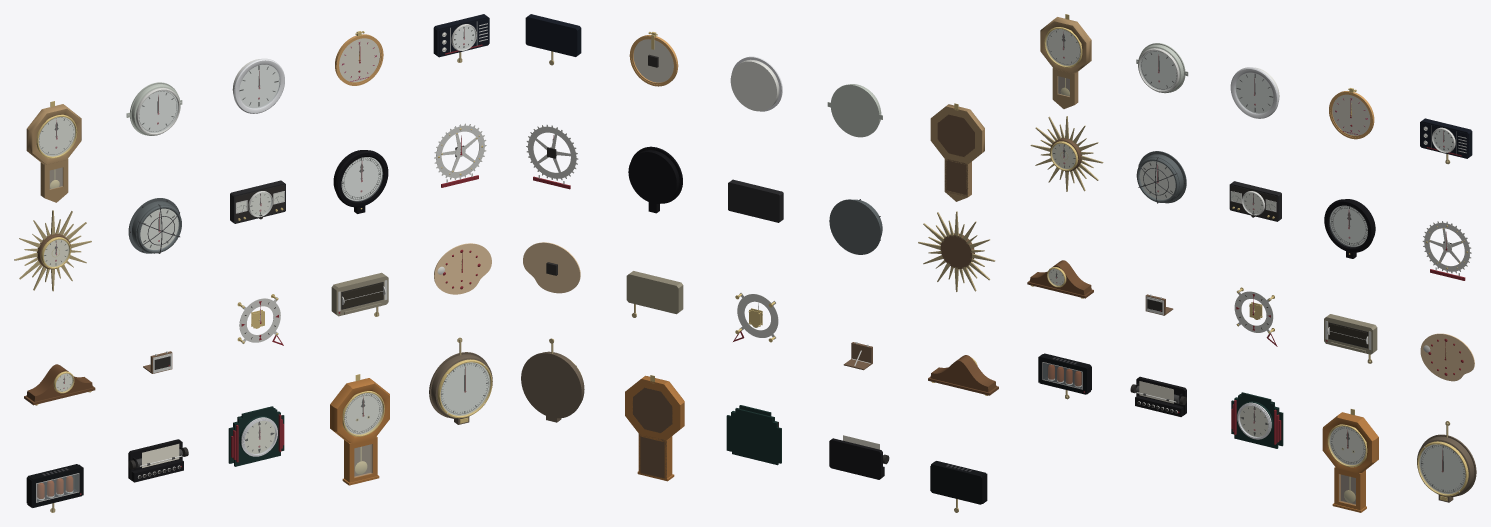
File: witness_clocks.glb
3 renders of one model, left to right at view 1: azimuth 30°, elevation 25°; view 2: azimuth 150°, elevation 25°; view 3: azimuth 330°, elevation 25°, orthographic. The views are drawn at different scales.
Visible parts, largest first — view 1: WC_drop_octagon__Case_ON_oak_quartered, WC_palette__Case_ON_plywood, WC_schoolhouse__Case_ON_oak_quartered, WC_vantry_master__Glass_ON_glassish, WC_vantry_master__Dial_ON_enamel, WC_drop_octagon__Glass_ON_glassish, WC_nixie__Case_ON_bakelite_black, WC_railway__Glass_ON_glassish, WC_stitch__Dial_ON_linen, WC_schoolhouse__Glass_ON_glassish, WC_bauhaus__Glass_ON_glassish, WC_sunray_1920__Rays_ON_brass_dull (+31 smaller); view 2: WC_vantry_master__Case_ON_bakelite_black, WC_deco__Case_ON_enamel, WC_railway__Case_ON_enamel, WC_drop_octagon__Case_ON_wood_dark, WC_industrial__Case_ON_enamel, WC_drop_octagon__Case_ON_oak_quartered, WC_hospital__Case_ON_enamel, WC_palette__Case_ON_plywood, WC_schoolhouse__Case_ON_wood_dark, WC_bauhaus__Case_ON_enamel, WC_nixie__Case_ON_bakelite_black, WC_split_flap__Case_ON_enamel (+12 smaller); view 3: WC_drop_octagon__Case_ON_oak_quartered, WC_palette__Case_ON_plywood, WC_schoolhouse__Case_ON_oak_quartered, WC_vantry_master__Glass_ON_glassish, WC_vantry_master__Dial_ON_enamel, WC_drop_octagon__Glass_ON_glassish, WC_nixie__Case_ON_bakelite_black, WC_railway__Glass_ON_glassish, WC_sunray_1920__Rays_ON_brass_dull, WC_stitch__Dial_ON_linen, WC_bauhaus__Glass_ON_glassish, WC_schoolhouse__Glass_ON_glassish (+30 smaller).
Boxes of the visible parts, x1,y1,x2,y2 form: WC_drop_octagon__Case_ON_oak_quartered: [330, 378, 389, 485]; WC_palette__Case_ON_plywood: [434, 243, 491, 294]; WC_schoolhouse__Case_ON_oak_quartered: [26, 104, 81, 202]; WC_vantry_master__Glass_ON_glassish: [441, 362, 490, 415]; WC_vantry_master__Dial_ON_enamel: [440, 362, 489, 415]; WC_drop_octagon__Glass_ON_glassish: [344, 393, 382, 477]; WC_nixie__Case_ON_bakelite_black: [26, 464, 83, 507]; WC_railway__Glass_ON_glassish: [342, 157, 382, 201]; WC_stitch__Dial_ON_linen: [339, 38, 379, 82]; WC_schoolhouse__Glass_ON_glassish: [39, 117, 75, 189]; WC_bauhaus__Glass_ON_glassish: [239, 65, 279, 108]; WC_sunray_1920__Rays_ON_brass_dull: [14, 210, 91, 291]; WC_vantry_master__Case_ON_bakelite_black: [521, 351, 584, 422]; WC_deco__Case_ON_enamel: [726, 405, 781, 465]; WC_railway__Case_ON_enamel: [628, 146, 682, 213]; WC_drop_octagon__Case_ON_wood_dark: [632, 387, 672, 478]; WC_industrial__Case_ON_enamel: [829, 199, 882, 254]; WC_drop_octagon__Case_ON_oak_quartered: [625, 375, 684, 481]; WC_hospital__Case_ON_enamel: [827, 84, 882, 137]; WC_palette__Case_ON_plywood: [523, 242, 580, 293]; WC_schoolhouse__Case_ON_wood_dark: [937, 114, 974, 196]; WC_bauhaus__Case_ON_enamel: [730, 59, 779, 111]; WC_nixie__Case_ON_bakelite_black: [930, 461, 987, 504]; WC_split_flap__Case_ON_enamel: [626, 271, 683, 314]; WC_drop_octagon__Case_ON_oak_quartered: [1322, 412, 1378, 512]; WC_palette__Case_ON_plywood: [1420, 333, 1474, 381]; WC_schoolhouse__Case_ON_oak_quartered: [1040, 17, 1091, 108]; WC_vantry_master__Glass_ON_glassish: [1419, 444, 1465, 494]; WC_vantry_master__Dial_ON_enamel: [1419, 444, 1465, 493]; WC_drop_octagon__Glass_ON_glassish: [1329, 426, 1365, 505]; WC_nixie__Case_ON_bakelite_black: [1038, 353, 1091, 394]; WC_railway__Glass_ON_glassish: [1329, 206, 1367, 246]; WC_sunray_1920__Rays_ON_brass_dull: [1030, 116, 1103, 191]; WC_stitch__Dial_ON_linen: [1332, 94, 1370, 135]; WC_bauhaus__Glass_ON_glassish: [1235, 73, 1273, 113]; WC_schoolhouse__Glass_ON_glassish: [1046, 29, 1080, 96].
Bounding box in the file's own units: 3.84 × 3.47 × 0.189.
